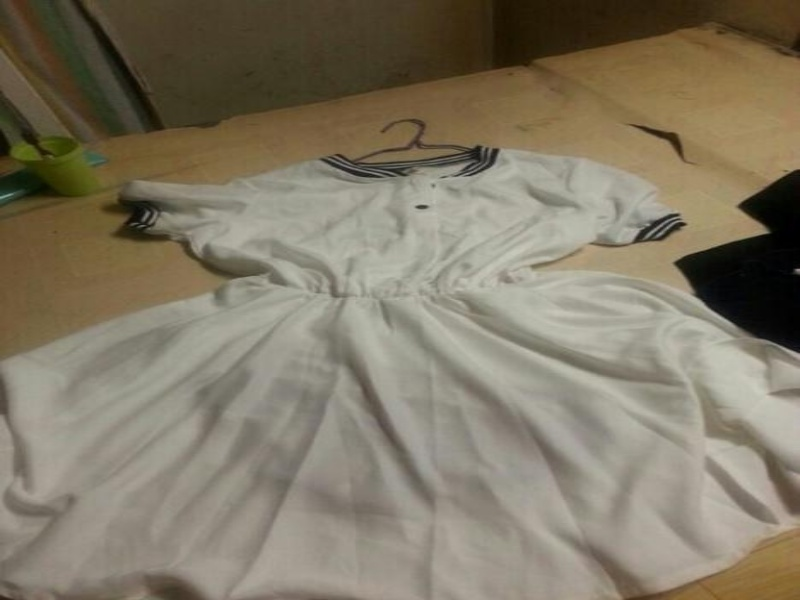short_sleeved_dress: (0, 145, 798, 599)
